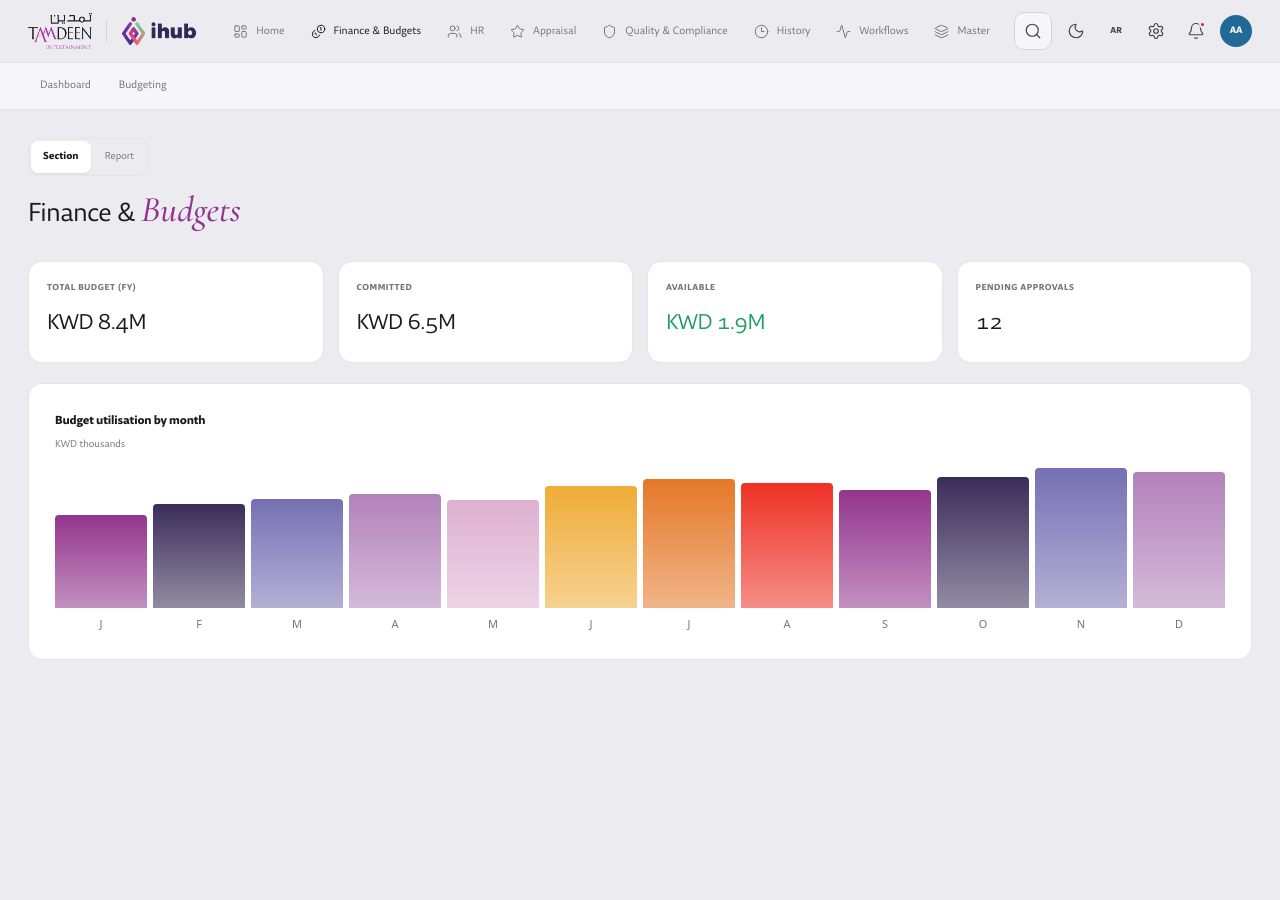
it: SectionLayout › defaults to Section and switches to the explicit report URL
Expected: the heading "Finance & Budgets" is shown, [28,192,241,233]
Step 1. Click the button "Report" → [119, 157], box [93,141,146,172]
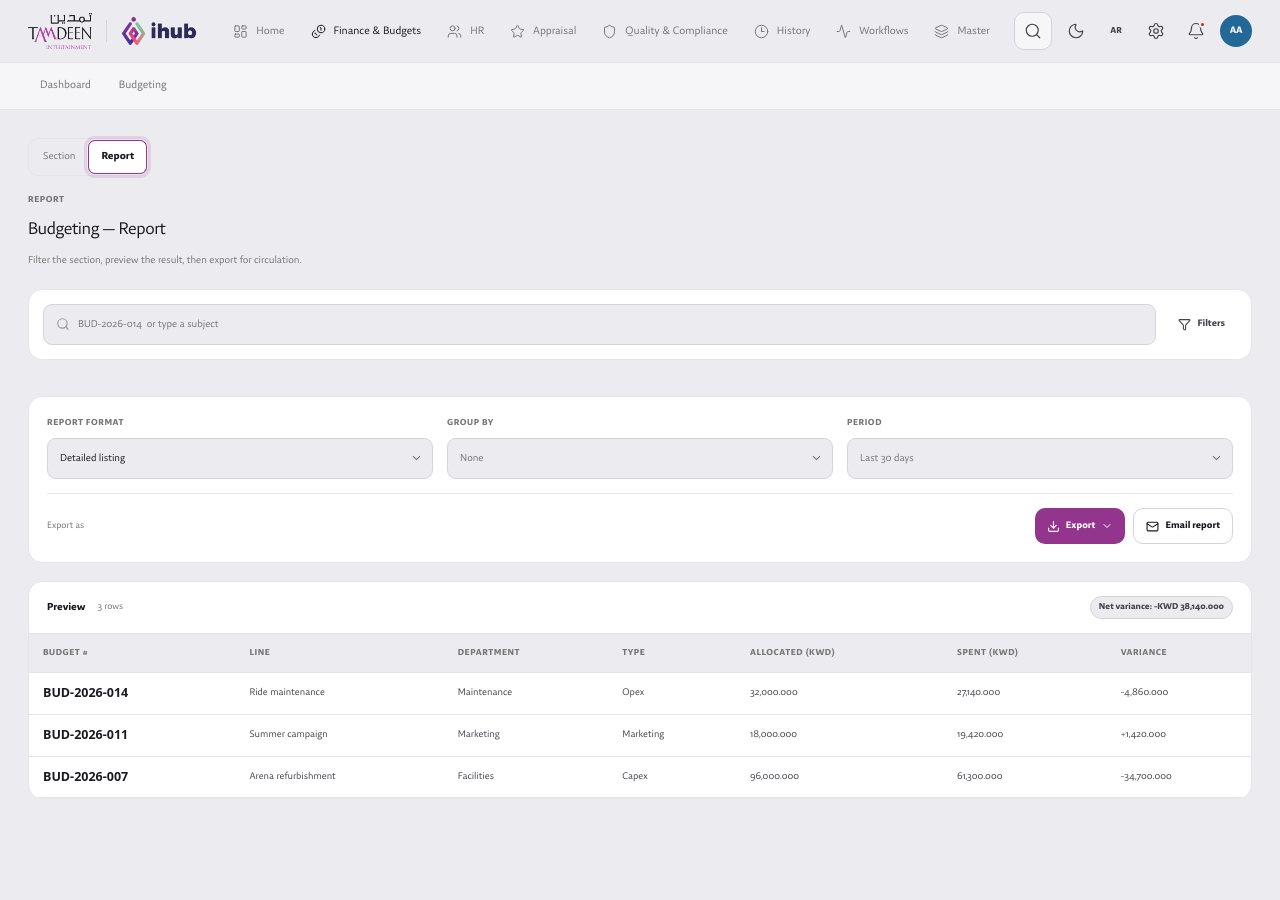
Now the heading "Budgeting — Report" is shown, box [28,219,165,241]
